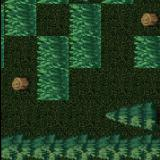Obstacle: (0, 132, 160, 160), (3, 68, 35, 100), (133, 99, 160, 132), (133, 4, 160, 36)
Slow: (36, 36, 68, 101), (68, 3, 100, 68), (3, 0, 36, 36), (133, 36, 160, 68)
